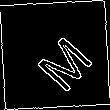M_NW: (20, 21, 90, 89)
